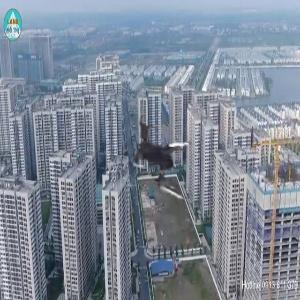drone: (116, 112, 204, 200)
